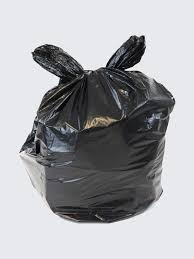Trash: (16, 34, 179, 225)
